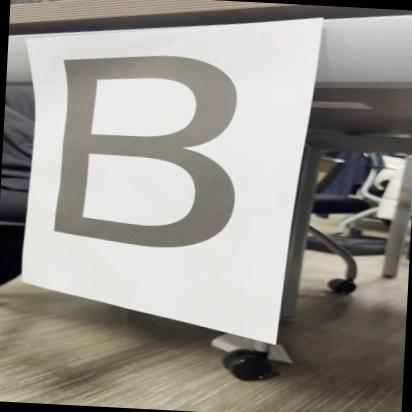seat: (34, 47, 277, 265)
